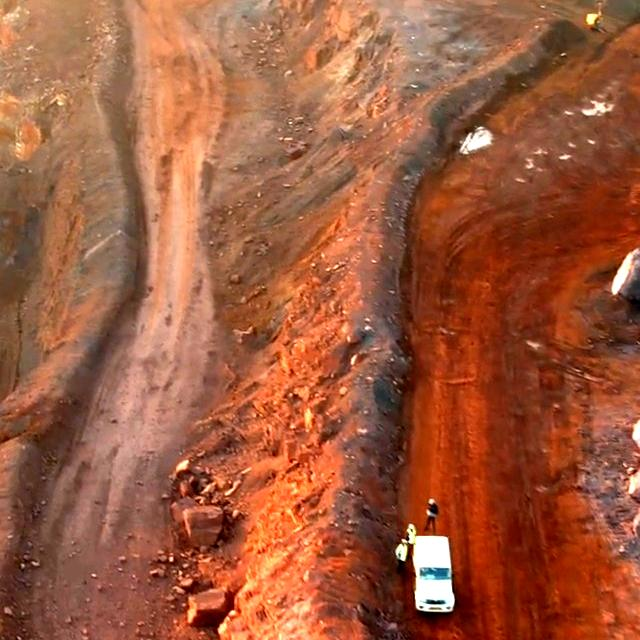car: (412, 536, 456, 611)
person: (417, 497, 448, 532), (396, 523, 416, 569)
